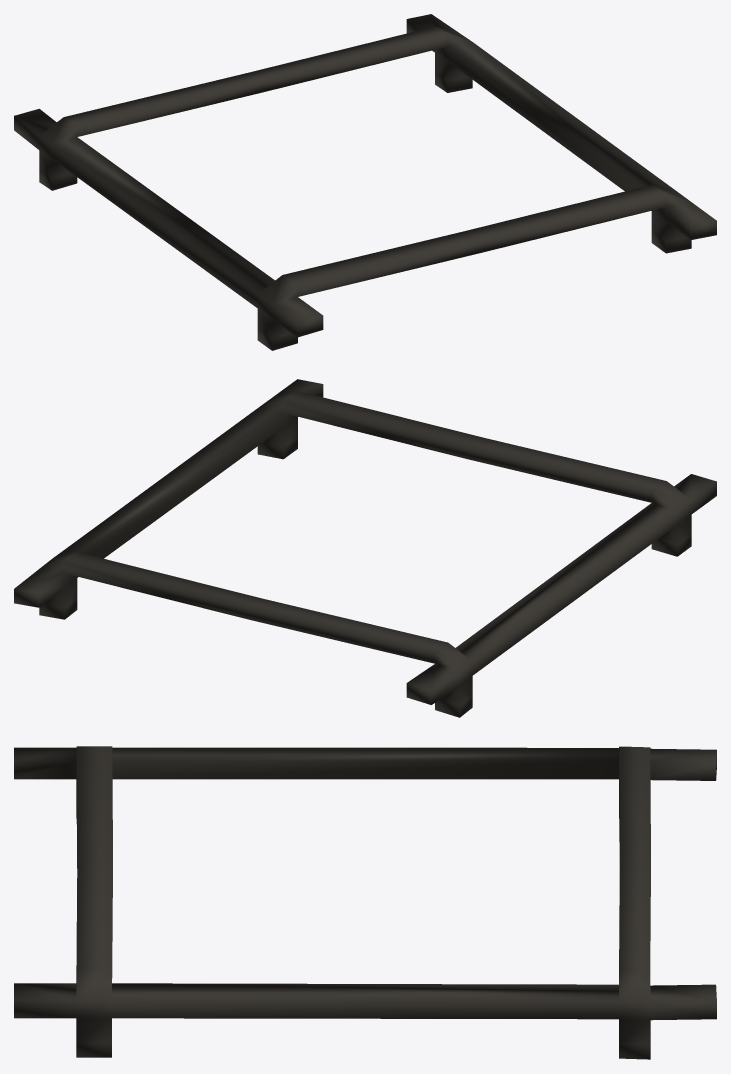
The model's file is roofrack.fbx.
The picture shows the model from 3 angles, top to bottom: view 1: azimuth 30°, elevation 25°; view 2: azimuth 150°, elevation 25°; view 3: azimuth 270°, elevation 25°; orthographic projection. The views are drawn at different scales.
Visible parts, largest first — view 1: Rack; view 2: Rack; view 3: Rack.
Boxes of the visible parts, x1,y1,x2,y2 form: Rack: (14, 14, 716, 350); Rack: (14, 379, 716, 717); Rack: (14, 746, 716, 1059).
Size of the model in its own units: 1.31 by 0.1803 by 1.53.
